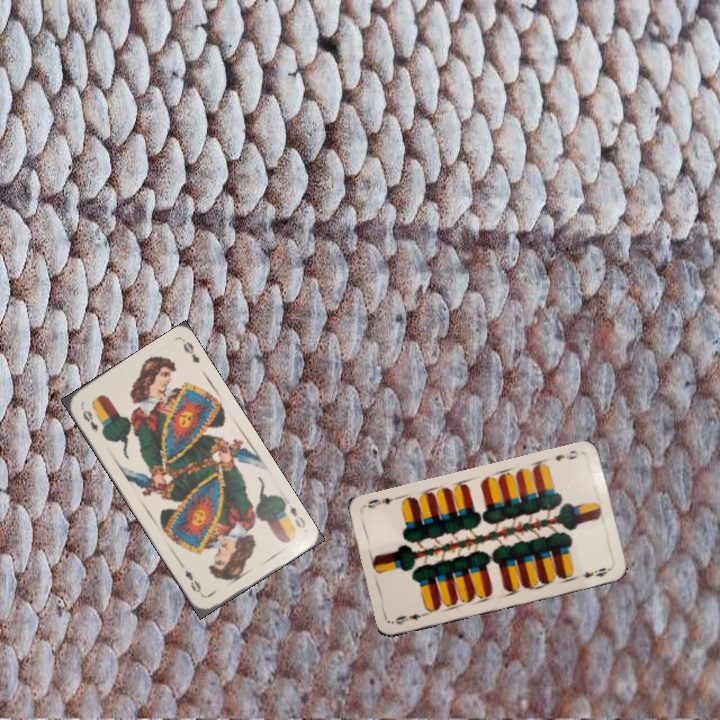E9: (389, 609, 430, 628), (551, 446, 582, 464)
EO: (77, 404, 106, 438), (285, 501, 309, 531)
